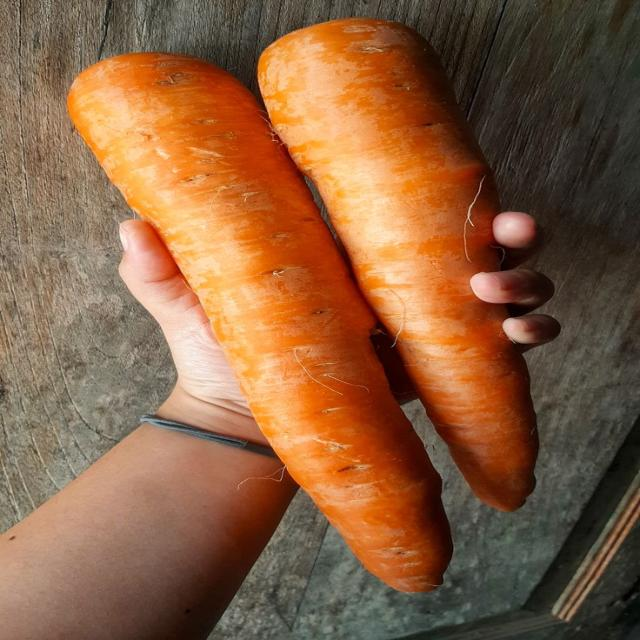carrot: (69, 53, 451, 591), (260, 19, 537, 510)
